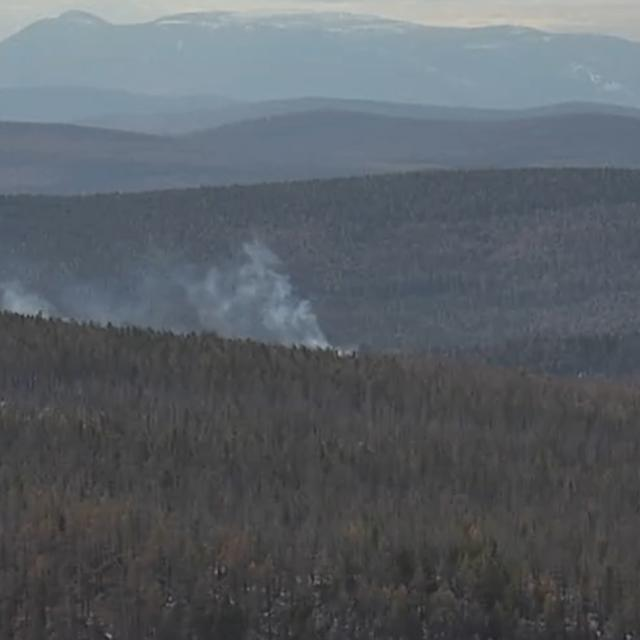Smoke: (0, 240, 360, 352)
